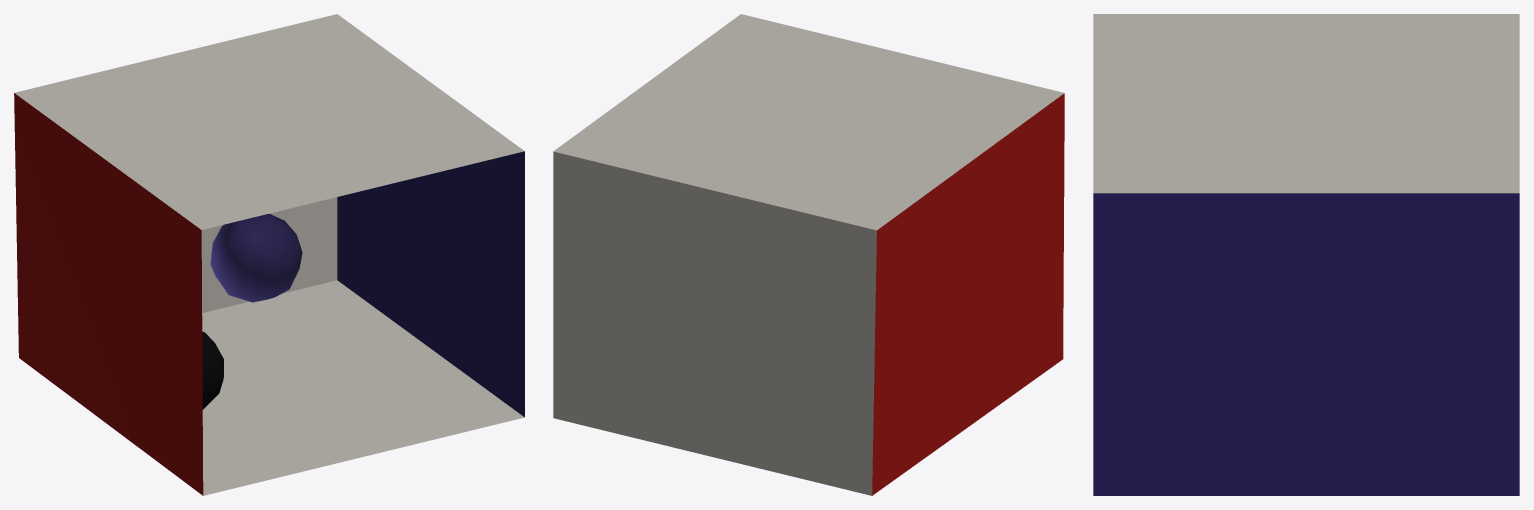
Rendered from CornellBox-Sphere-1107.obj.
The picture shows the model from 3 angles, left to right: view 1: azimuth 30°, elevation 25°; view 2: azimuth 150°, elevation 25°; view 3: azimuth 270°, elevation 25°; orthographic projection. The views are drawn at different scales.
Visible parts, largest first — view 1: ceiling, leftWall, floor, rightWall, leftSphere, backWall, rightSphere; view 2: backWall, ceiling, leftWall; view 3: rightWall, ceiling.
Part boxes in pixels (<box>): ceiling: <box>14,14,524,229</box>; leftWall: <box>14,93,203,495</box>; floor: <box>202,280,524,495</box>; rightWall: <box>337,151,524,417</box>; leftSphere: <box>210,214,302,302</box>; backWall: <box>201,197,337,312</box>; rightSphere: <box>202,331,223,409</box>; backWall: <box>553,151,876,495</box>; ceiling: <box>553,14,1064,230</box>; leftWall: <box>872,93,1064,495</box>; rightWall: <box>1093,193,1519,495</box>; ceiling: <box>1093,14,1519,193</box>.
Bounding box in the file's own units: 2.02 × 1.59 × 2.03.
